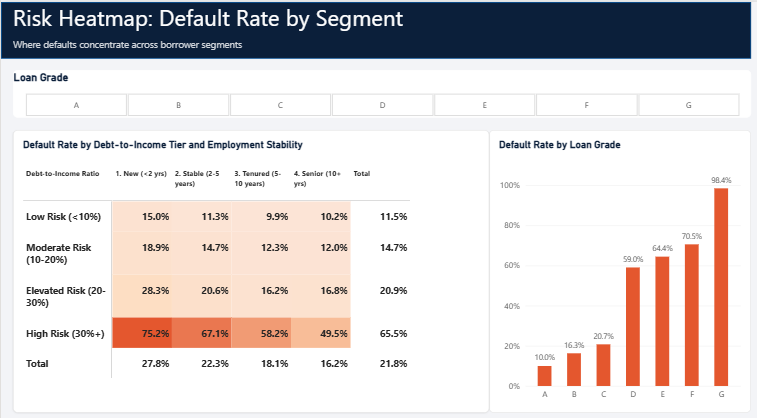

This screenshot's page, from the dashboard's own definition file:
{"tool":"powerbi","page":{"name":"Risk Heatmap","canvas":[1280,720],"ordinal":1},"visuals":[{"type":"shape","box":[0,0,1260,95],"z":0},{"type":"textbox","box":[20,0,1000,55],"z":1000},{"type":"textbox","box":[20,60,700,25],"z":2000},{"type":"slicer","title":"Loan Grade","fields":{"Values":["vw_risk_matrix_segmentation.loan_grade"]},"box":[20,115,1240,80],"z":4000},{"type":"clusteredColumnChart","title":"Default Rate by Loan Grade","fields":{"Category":["vw_risk_matrix_segmentation.loan_grade"],"Y":["vw_risk_matrix_segmentation.Matrix Default Rate"]},"box":[820,215,440,475],"z":5000},{"type":"pivotTable","title":"Default Rate by Debt-to-Income Tier and Employment Stability","fields":{"Columns":["vw_risk_matrix_segmentation.employment_stability_tier"],"Rows":["vw_risk_matrix_segmentation.dti_risk_tier"],"Values":["vw_risk_matrix_segmentation.Matrix Default Rate"]},"box":[20,215,800,475],"z":5001}]}

Visuals, with their boxes in screenshot pixels (x1, y1, x2, y2), scaled from the page's 1280x720 canvas onto the 757x418 screenshot:
shape: bbox(0, 0, 745, 55)
textbox: bbox(12, 0, 603, 32)
textbox: bbox(12, 35, 426, 49)
"Loan Grade" slicer: bbox(12, 67, 745, 113)
"Default Rate by Loan Grade" clusteredColumnChart: bbox(485, 125, 745, 401)
"Default Rate by Debt-to-Income Tier and Employment Stability" pivotTable: bbox(12, 125, 485, 401)
